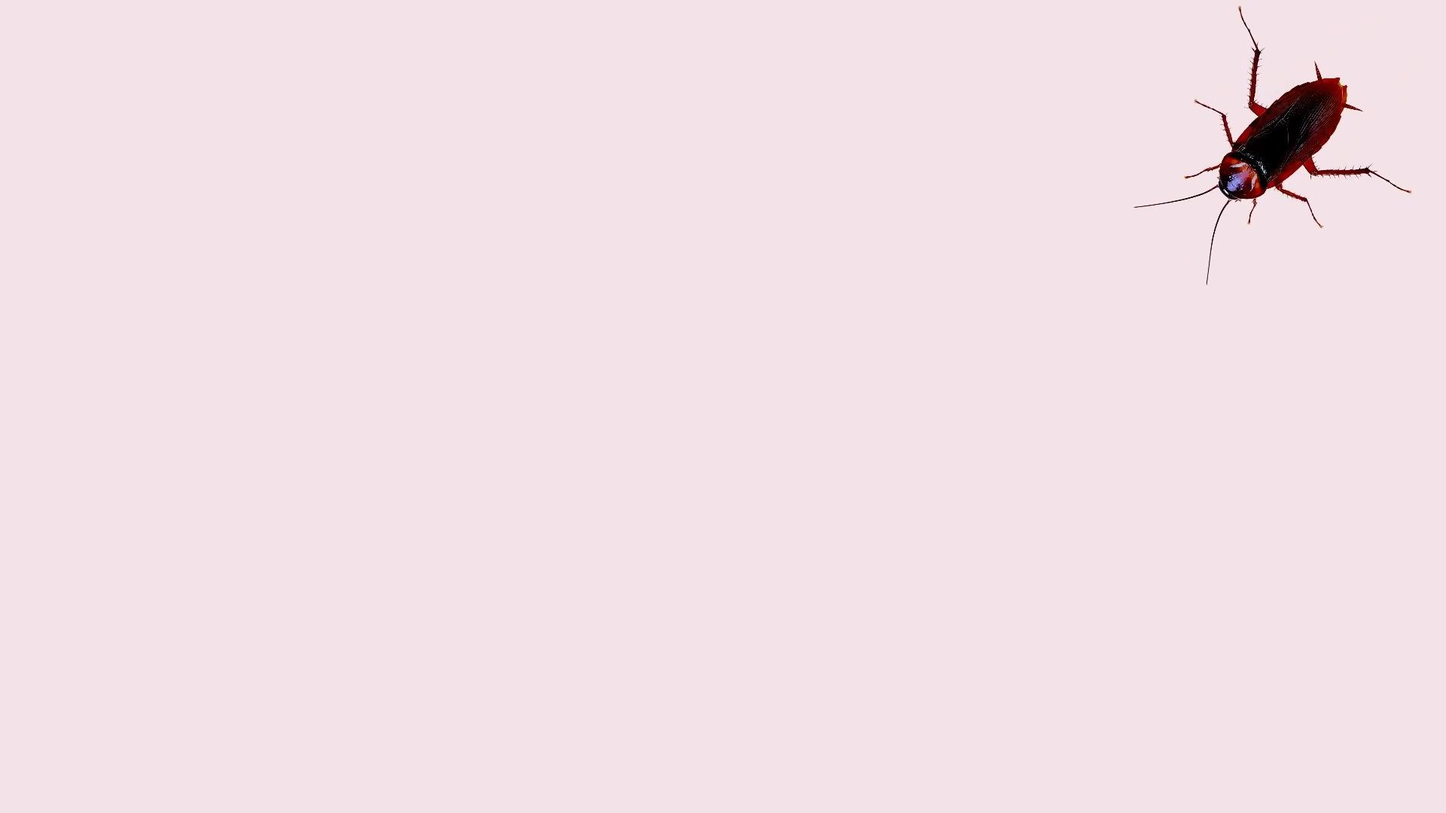cockroach: (1095, 13, 1418, 287)
